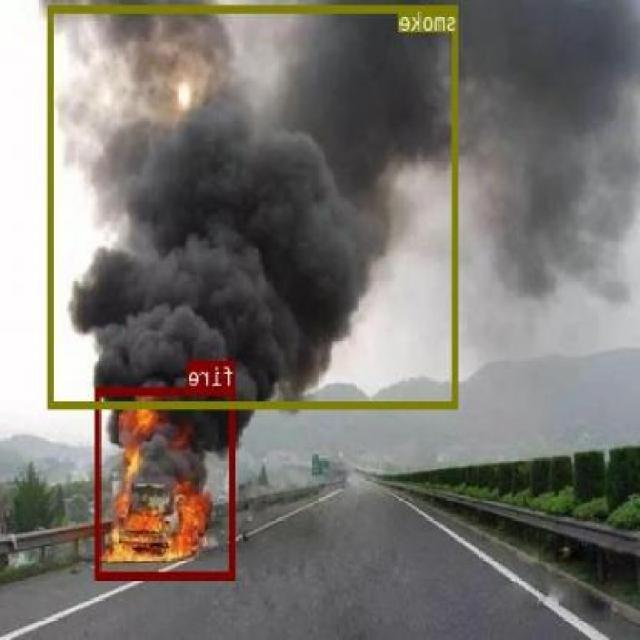Fire: (96, 387, 236, 578)
Smoke: (49, 4, 460, 407)
